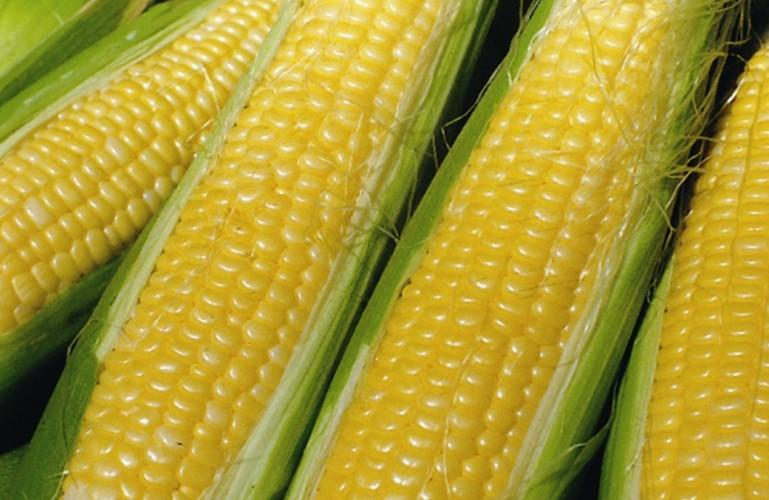sweetcorn: (16, 0, 488, 498), (286, 0, 751, 498), (0, 0, 298, 339), (636, 32, 767, 498)
